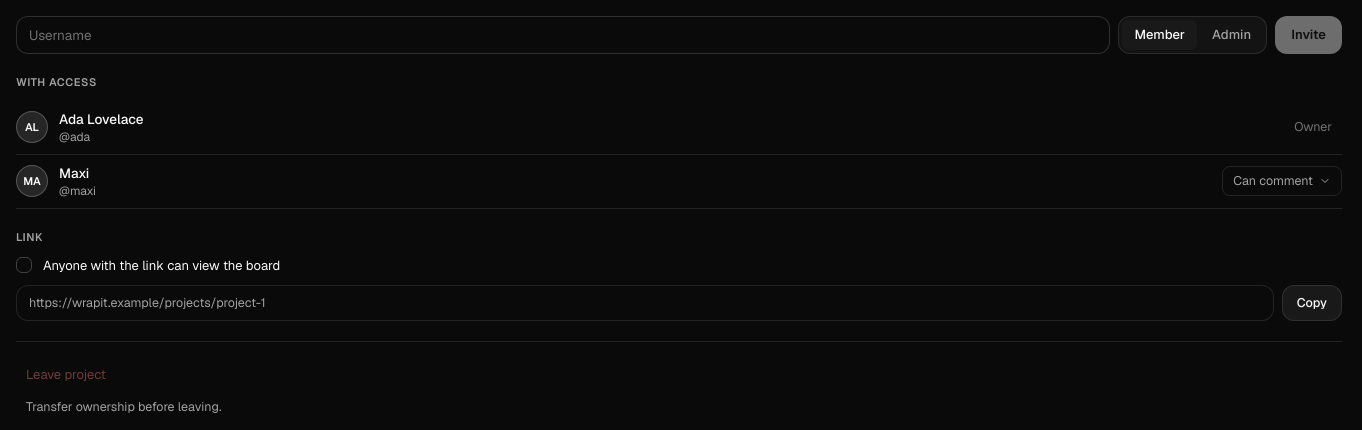
ShareModalBody › offers Transfer ownership only on other rows when the viewer is OWNER
Click the button with aria-label "Change permission" at {"x": 1282, "y": 181}, box top-left (1222, 166), bottom-right (1342, 196)
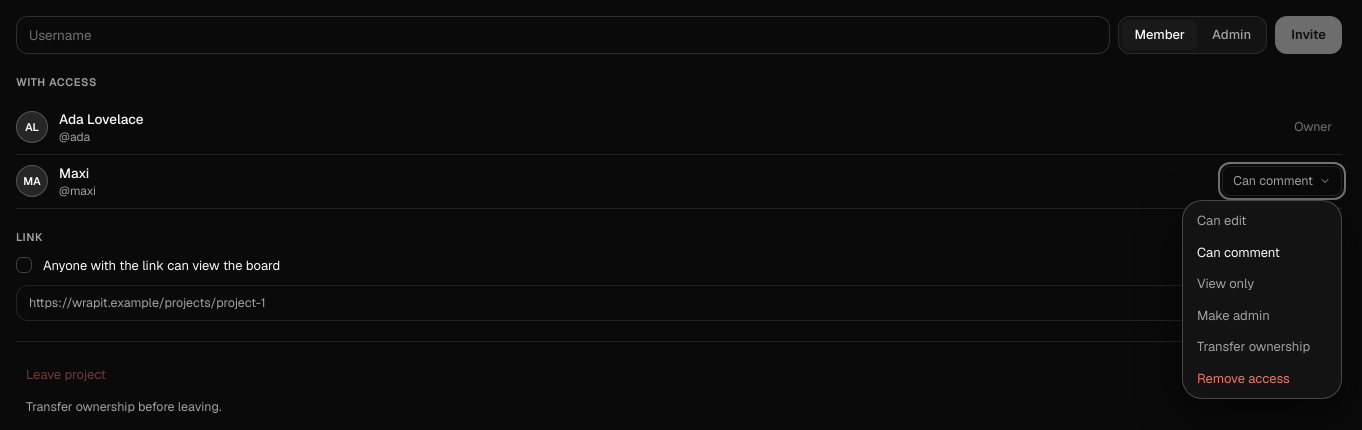
expect the menu item "Transfer ownership" is shown: met, box top-left (1187, 331), bottom-right (1337, 363)
